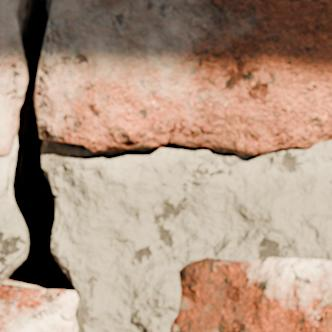brick: (171, 258, 331, 331), (0, 279, 77, 331)
broken_brick: (37, 0, 331, 156), (0, 0, 24, 156)
crack: (0, 0, 79, 329)
